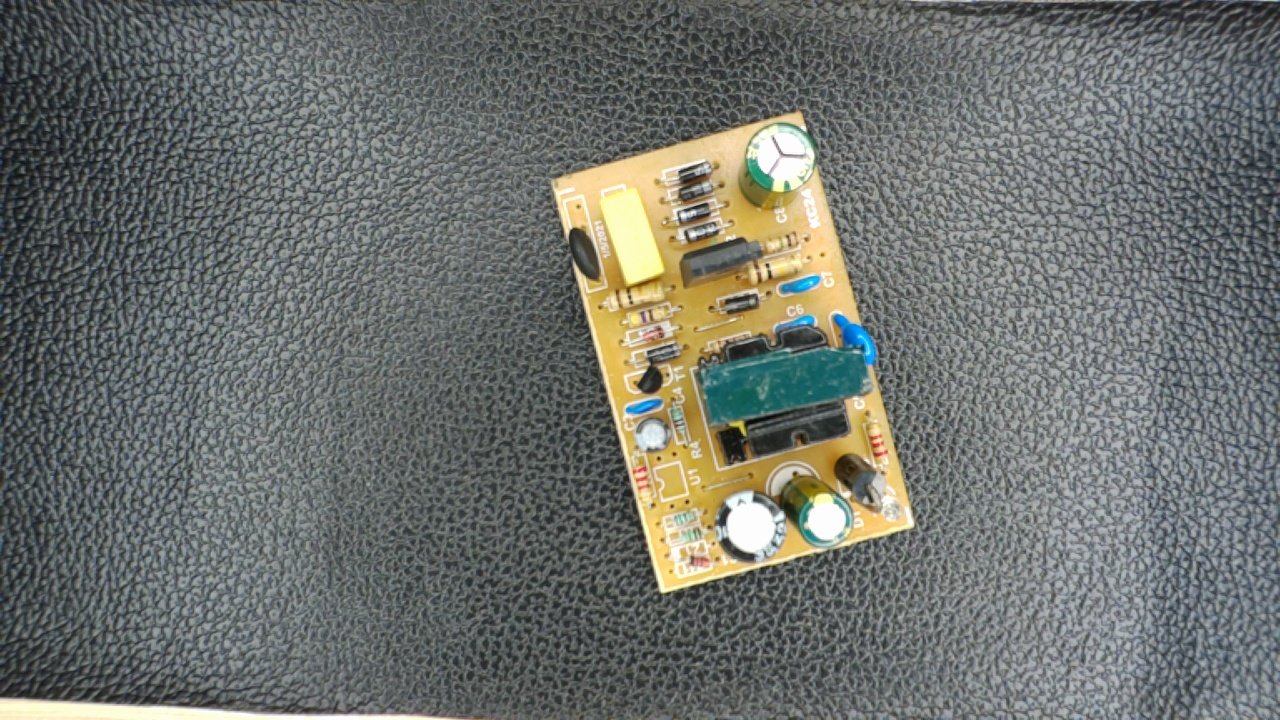fuse: (564, 210, 606, 294)
hv_capacitor: (735, 119, 822, 212)
mov: (827, 306, 878, 371)
